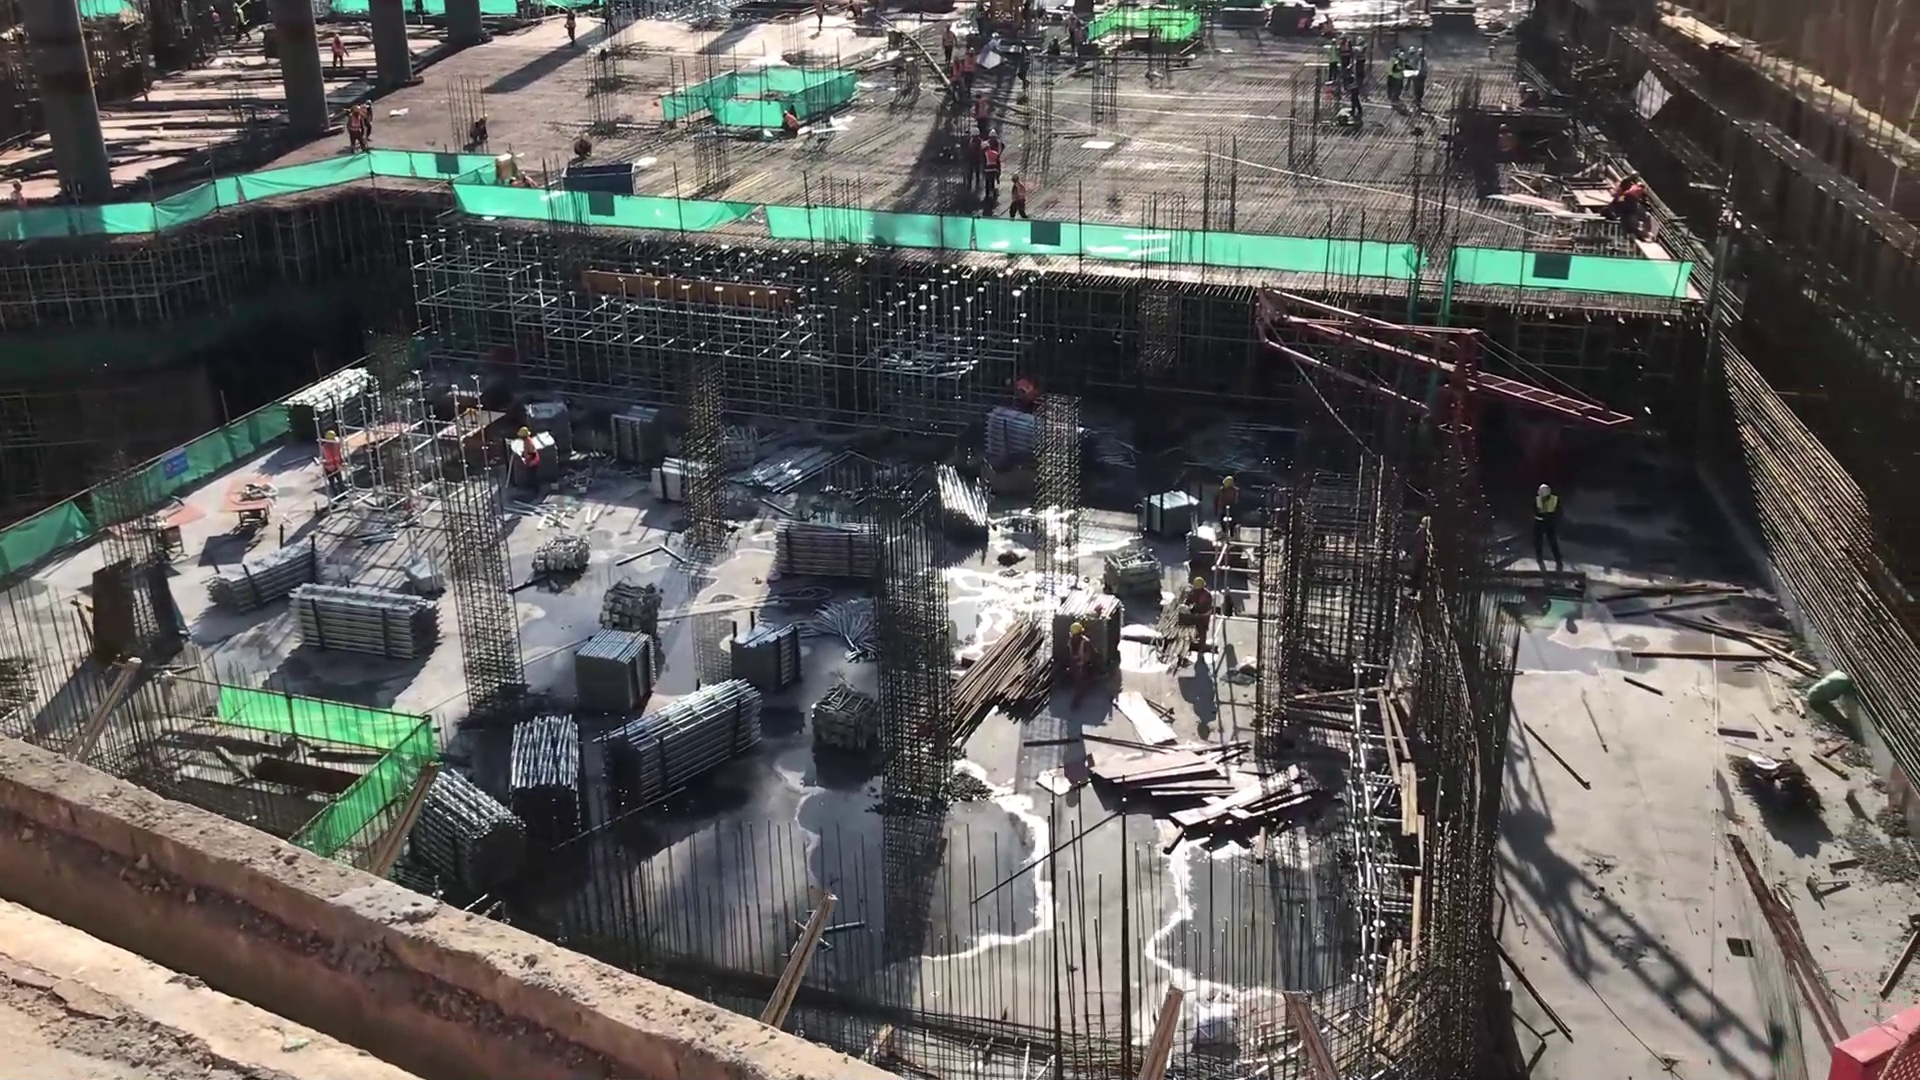board: (1096, 750, 1218, 797)
helmet: (1191, 575, 1206, 589), (1220, 476, 1238, 488), (1535, 482, 1552, 495), (1068, 622, 1085, 634), (324, 429, 340, 440), (518, 427, 531, 436)
person: (1525, 479, 1570, 579), (1061, 622, 1097, 701), (1183, 579, 1211, 654), (515, 427, 546, 496), (321, 424, 348, 495), (1215, 473, 1242, 535), (978, 141, 999, 199), (984, 128, 1004, 183), (966, 126, 984, 187), (326, 31, 351, 73), (1337, 29, 1354, 88), (1008, 170, 1027, 220), (1344, 76, 1364, 126), (228, 2, 252, 44), (1014, 39, 1032, 91), (1615, 165, 1638, 207), (969, 89, 988, 137), (468, 112, 493, 148), (938, 21, 958, 65), (1405, 45, 1419, 100), (1065, 9, 1081, 59), (346, 105, 362, 152), (599, 1, 618, 39), (777, 109, 800, 141), (1495, 121, 1512, 164), (1324, 36, 1338, 84), (560, 5, 577, 46), (1628, 182, 1646, 222), (964, 44, 977, 94), (572, 130, 594, 161), (949, 53, 961, 105), (361, 99, 375, 147), (1394, 51, 1406, 103), (1417, 48, 1428, 103), (1355, 34, 1368, 83), (207, 5, 221, 43), (811, 2, 827, 37), (1388, 47, 1399, 98), (845, 1, 864, 23)
scaffold: (608, 677, 763, 810), (294, 582, 444, 657), (511, 709, 579, 832), (213, 548, 319, 610), (772, 519, 881, 576), (575, 630, 653, 706), (291, 367, 380, 428), (731, 625, 801, 690), (761, 442, 837, 496), (938, 462, 983, 537), (988, 408, 1038, 473)
wood: (958, 609, 1054, 740)
